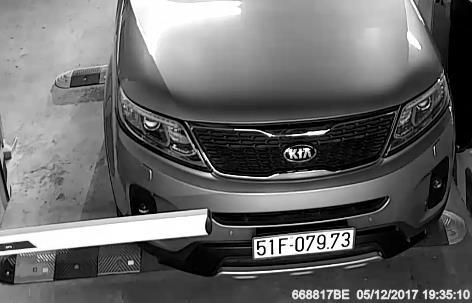License-plate: (249, 226, 368, 263)
